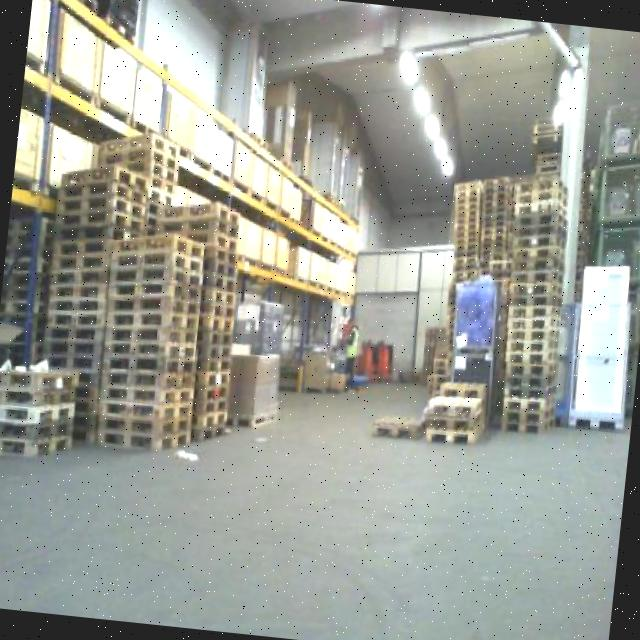pallet: (100, 265, 216, 312), (100, 294, 208, 344), (104, 221, 214, 266), (99, 284, 210, 328), (100, 312, 207, 356), (96, 354, 202, 398), (52, 180, 152, 223), (92, 392, 199, 431), (102, 244, 211, 282), (98, 258, 212, 294), (88, 124, 189, 164), (0, 355, 84, 403), (95, 417, 193, 457), (94, 372, 195, 409), (0, 421, 75, 470), (48, 160, 150, 195), (0, 391, 78, 434), (94, 141, 188, 175), (408, 418, 487, 451), (0, 377, 77, 410), (416, 402, 486, 436), (366, 410, 430, 446), (87, 87, 136, 132), (501, 366, 568, 398), (501, 296, 568, 328), (422, 388, 484, 422), (506, 282, 570, 314), (506, 224, 574, 254), (504, 274, 568, 304), (506, 262, 570, 292), (514, 168, 574, 200), (498, 386, 560, 416), (490, 412, 554, 440), (506, 240, 570, 268), (564, 409, 630, 436), (500, 344, 563, 372), (503, 310, 563, 339), (496, 400, 558, 428), (502, 326, 564, 354), (511, 212, 572, 240), (512, 182, 573, 210), (501, 353, 558, 382), (227, 403, 281, 433), (514, 195, 572, 220), (447, 213, 485, 230), (448, 236, 482, 254), (448, 254, 480, 273), (451, 229, 482, 248), (449, 178, 488, 192), (448, 245, 478, 263), (452, 222, 481, 240), (449, 265, 477, 281), (269, 262, 290, 281), (291, 270, 312, 289), (454, 188, 484, 199)
